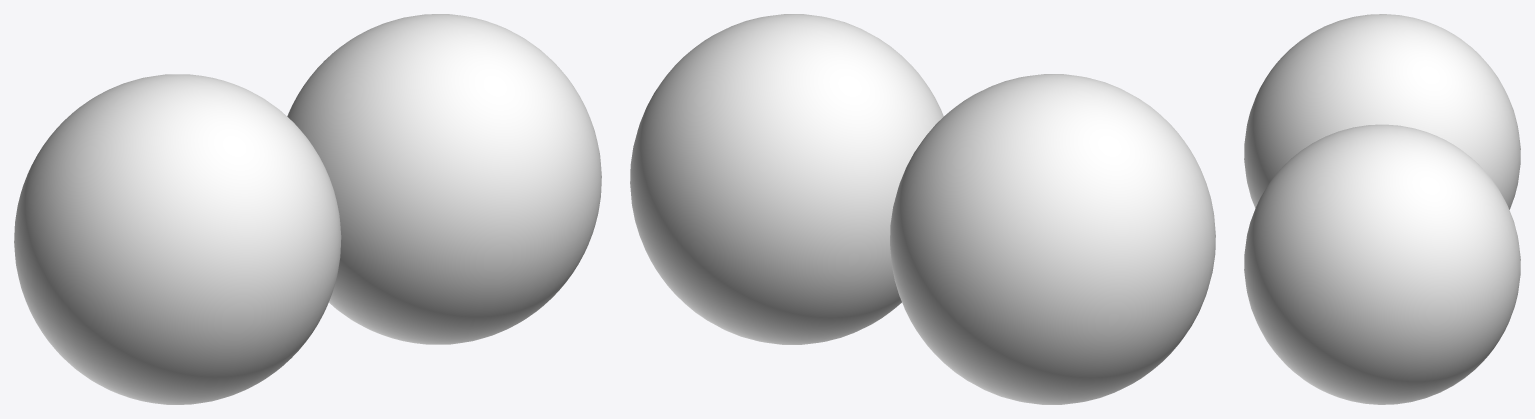
Rendered from hydrogen .glb.
The picture shows the model from 3 angles, left to right: view 1: azimuth 30°, elevation 25°; view 2: azimuth 150°, elevation 25°; view 3: azimuth 270°, elevation 25°; orthographic projection. The views are drawn at different scales.
Size of the model in its own units: 0.4174 by 0.2235 by 0.2173.
1 material, 1 textured.
